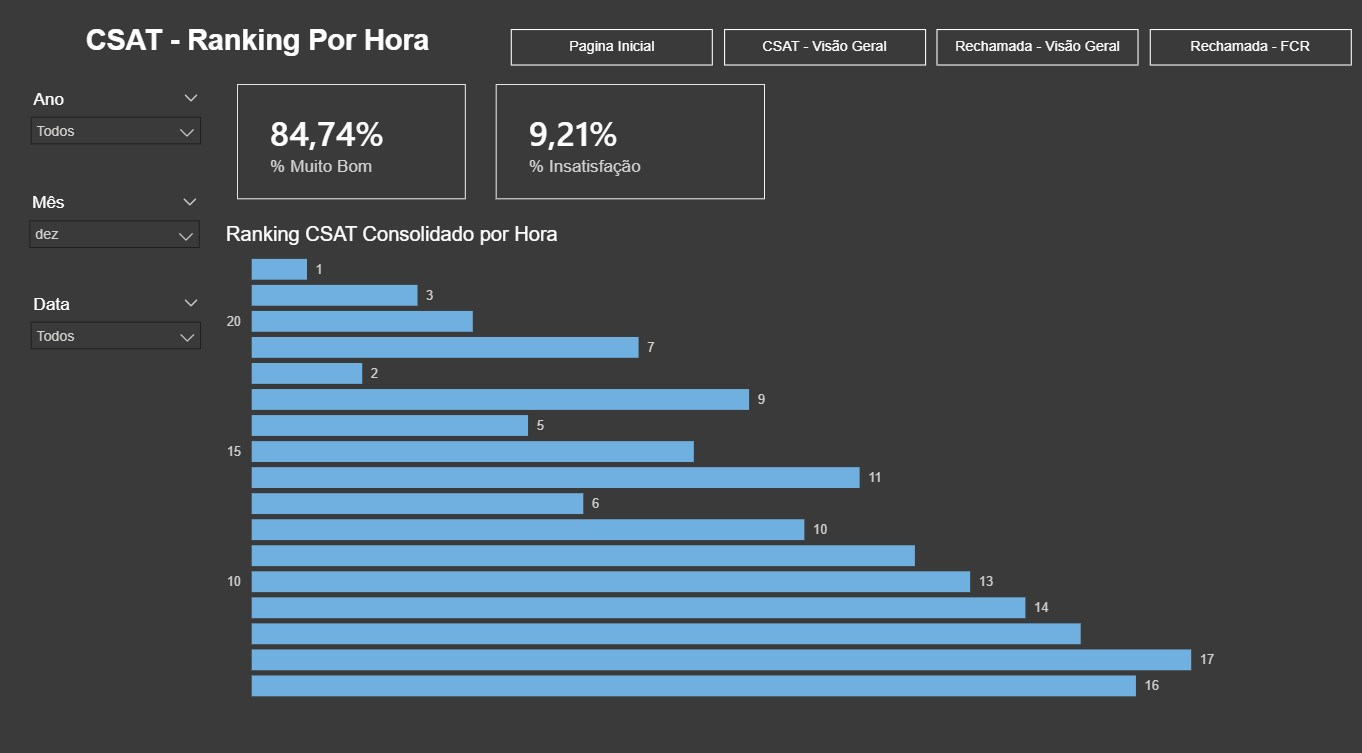

This screenshot's page, from the dashboard's own definition file:
{"tool":"powerbi","page":{"name":"CSAT - Ranking Por Hora","canvas":[1280,720],"ordinal":2},"visuals":[{"type":"clusteredBarChart","title":"Ranking CSAT Consolidado por Hora","fields":{"Category":["fcsat.Hora_Num"],"Y":["Medidas (2).Ranking Hora"]},"box":[208.6,212.9,930,445.7],"z":0},{"type":"cardVisual","fields":{"Data":["Medidas (2).% Muito Bom"]},"box":[222.9,84.3,212.9,107.1],"z":1000},{"type":"cardVisual","fields":{"Data":["Medidas (2).% Insatisfação"]},"box":[464.3,84.3,250,107.1],"z":2000},{"type":"slicer","fields":{"Values":["dCalendario.Ano"]},"box":[21.5,83.7,178.5,65.9],"z":3000},{"type":"slicer","fields":{"Values":["dCalendario.MesAbrev"]},"box":[20,180,178.6,65.7],"z":4000},{"type":"slicer","fields":{"Values":["dCalendario.Data"]},"box":[21.4,274.3,178.6,67.1],"z":5000},{"type":"textbox","box":[21.4,22.9,442.9,54.3],"z":6000},{"type":"pageNavigator","box":[478,32,784,34],"z":7000}]}

Visuals, with their boxes in screenshot pixels (x1, y1, x2, y2), scaled from the page's 1280x720 canvas onto the 1362x753 screenshot:
"Ranking CSAT Consolidado por Hora" clusteredBarChart: x1=222, y1=223, x2=1212, y2=689
cardVisual - Medidas (2).% Muito Bom: x1=237, y1=88, x2=464, y2=200
cardVisual - Medidas (2).% Insatisfação: x1=494, y1=88, x2=760, y2=200
slicer - dCalendario.Ano: x1=23, y1=88, x2=213, y2=156
slicer - dCalendario.MesAbrev: x1=21, y1=188, x2=211, y2=257
slicer - dCalendario.Data: x1=23, y1=287, x2=213, y2=357
textbox: x1=23, y1=24, x2=494, y2=81
pageNavigator: x1=509, y1=33, x2=1343, y2=69
